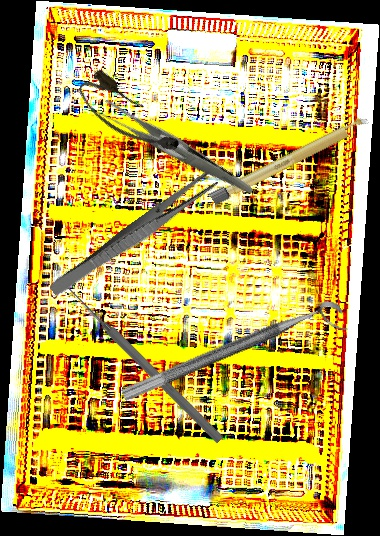Cannula: (72, 65, 185, 169)
Dressing Forceps: (95, 67, 254, 233), (47, 167, 221, 303)
Fixation Ring: (120, 296, 350, 421)
Pusher: (63, 283, 226, 445)
Scalpel Handle: (209, 114, 371, 206)
